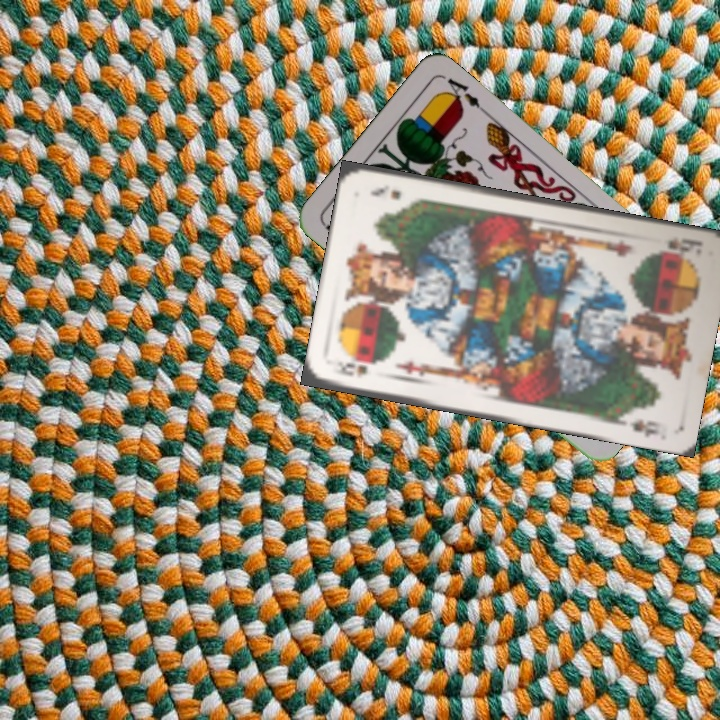SK: (655, 232, 706, 258), (328, 358, 370, 381)
